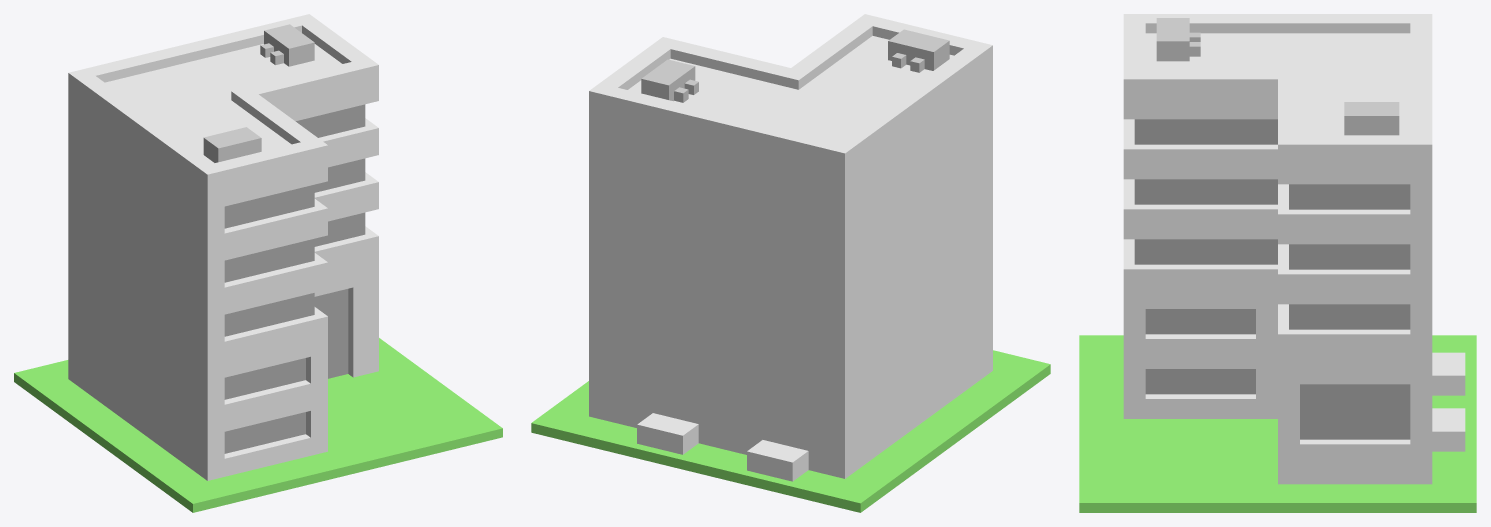
The picture shows the model from 3 angles, left to right: view 1: azimuth 30°, elevation 25°; view 2: azimuth 150°, elevation 25°; view 3: azimuth 270°, elevation 25°; orthographic projection. The views are drawn at different scales.
Visible parts, largest first — view 1: ObjObject.005; view 2: ObjObject.005; view 3: ObjObject.005.
Boxes of the visible parts, box(x1,y1,x2,y2) form: ObjObject.005: box(14, 14, 502, 512); ObjObject.005: box(531, 14, 1050, 512); ObjObject.005: box(1079, 14, 1476, 512).
Bounding box in the file's own units: 2 × 2 × 2.
